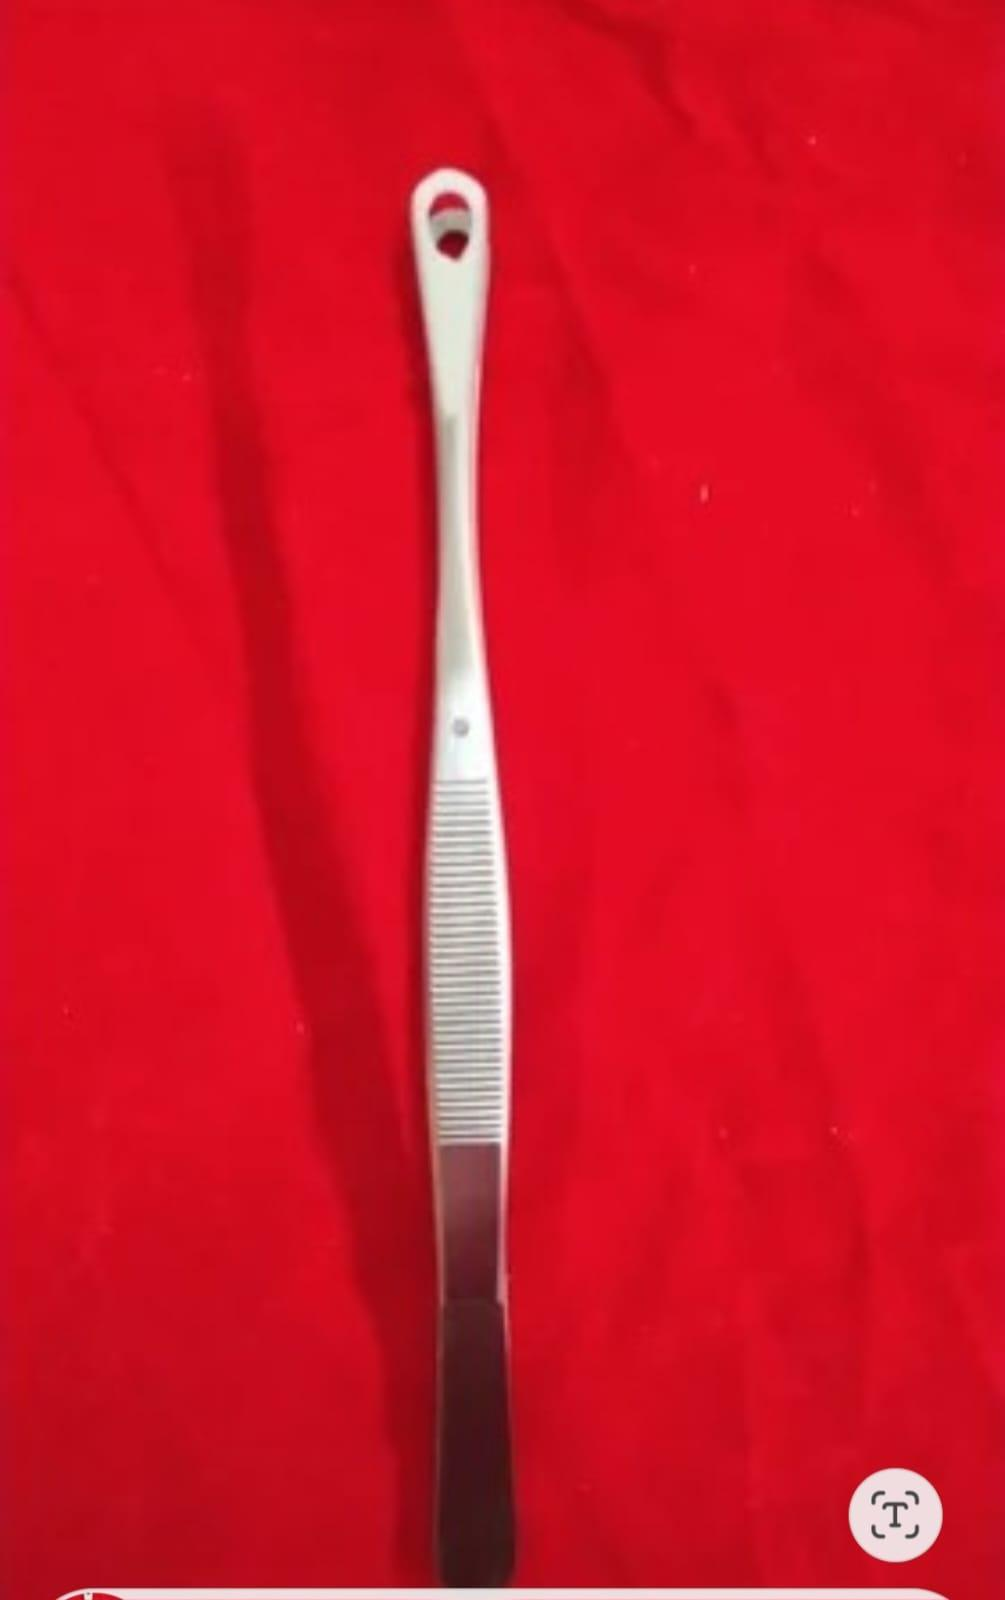Eye Intestinal Forceps: (375, 165, 568, 1582)
